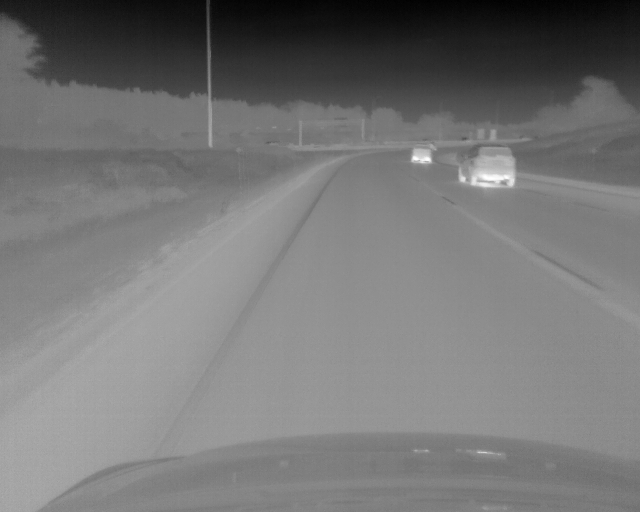car: (456, 144, 516, 186), (412, 146, 432, 163)
